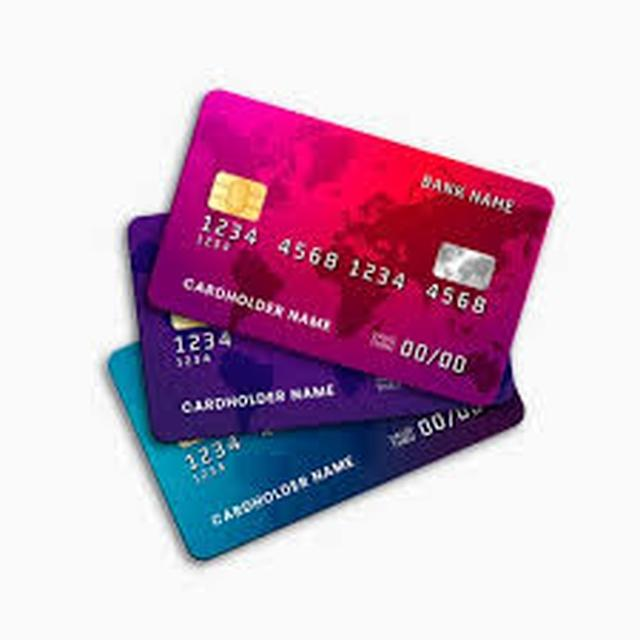card: (105, 111, 527, 596), (29, 294, 593, 564), (84, 186, 536, 449), (152, 114, 572, 388)
